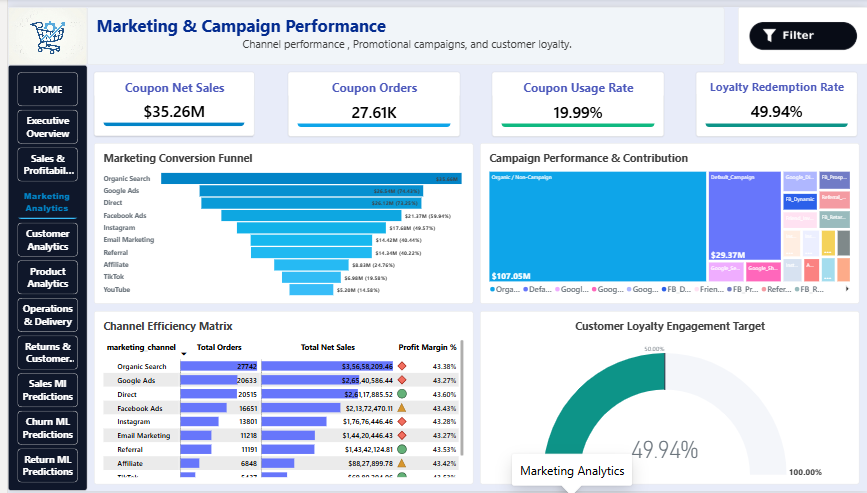

This screenshot's page, from the dashboard's own definition file:
{"tool":"powerbi","page":{"name":"Marketing Analytics","canvas":[1920,1080],"ordinal":3},"visuals":[{"type":"textbox","box":[177.5,0,1422.5,129.1],"z":0},{"type":"image","box":[0,0,177.1,129.6],"z":1000},{"type":"tableEx","title":"Channel Efficiency Matrix ","fields":{"Values":["ecommerce_sales_customer_analytics_cleaned.marketing_channel","Dim_Date.Total Orders","Dim_Date.Total Net Sales","Dim_Date.Profit Margin %"]},"box":[192.2,678.2,846.7,386.6],"z":2000},{"type":"funnel","title":"Marketing Conversion Funnel","fields":{"Category":["ecommerce_sales_customer_analytics_cleaned.marketing_channel"],"Y":["Dim_Date.Total Net Sales"]},"box":[192.2,304.6,846.7,358.6],"z":3000},{"type":"treemap","title":"Campaign Performance & Contribution","fields":{"Group":["ecommerce_sales_customer_analytics_cleaned.Campaign Cleaned"],"Values":["Dim_Date.Total Net Sales"]},"box":[1054.1,304.6,846.7,358.6],"z":4000},{"type":"gauge","title":"Customer Loyalty Engagement Target","fields":{"TargetValue":["Bridge_Stages.Loyalty Target %"],"Y":["Bridge_Stages.Loyalty Redemption Rate %"]},"box":[1054.1,678.2,846.7,386.6],"z":5000},{"type":"cardVisual","title":" Coupon Net Sales","fields":{"Data":["Bridge_Stages.Coupon Net Sales"]},"box":[192,144,357.6,142.5],"z":6000},{"type":"cardVisual","title":"Coupon Orders","fields":{"Data":["Bridge_Stages.Coupon Orders"]},"box":[624,144,384,144],"z":7000},{"type":"cardVisual","title":"Coupon Usage Rate","fields":{"Data":["Bridge_Stages.Coupon Usage Rate %"]},"box":[1080,144,384,144],"z":8000},{"type":"cardVisual","title":" Loyalty Redemption Rate","fields":{"Data":["Bridge_Stages.Loyalty Redemption Rate %"]},"box":[1536,144,360,144],"z":9000},{"type":"pageNavigator","box":[0,129.6,177.1,950.4],"z":10000},{"type":"image","title":"filter icon","box":[1629.3,0,290.7,128.5],"z":11000}]}

Visuals, with their boxes on the page's 1920x1080 design canvas (x1, y1, x2, y2). These are canvas units, not pixel positions in the 867x493 screenshot, which may show the page scaled, cropped or inside an application window:
textbox: (left=178, top=0, right=1600, bottom=129)
image: (left=0, top=0, right=177, bottom=130)
"Channel Efficiency Matrix " tableEx: (left=192, top=678, right=1039, bottom=1065)
"Marketing Conversion Funnel" funnel: (left=192, top=305, right=1039, bottom=663)
"Campaign Performance & Contribution" treemap: (left=1054, top=305, right=1901, bottom=663)
"Customer Loyalty Engagement Target" gauge: (left=1054, top=678, right=1901, bottom=1065)
" Coupon Net Sales" cardVisual: (left=192, top=144, right=550, bottom=286)
"Coupon Orders" cardVisual: (left=624, top=144, right=1008, bottom=288)
"Coupon Usage Rate" cardVisual: (left=1080, top=144, right=1464, bottom=288)
" Loyalty Redemption Rate" cardVisual: (left=1536, top=144, right=1896, bottom=288)
pageNavigator: (left=0, top=130, right=177, bottom=1080)
"filter icon" image: (left=1629, top=0, right=1920, bottom=128)
